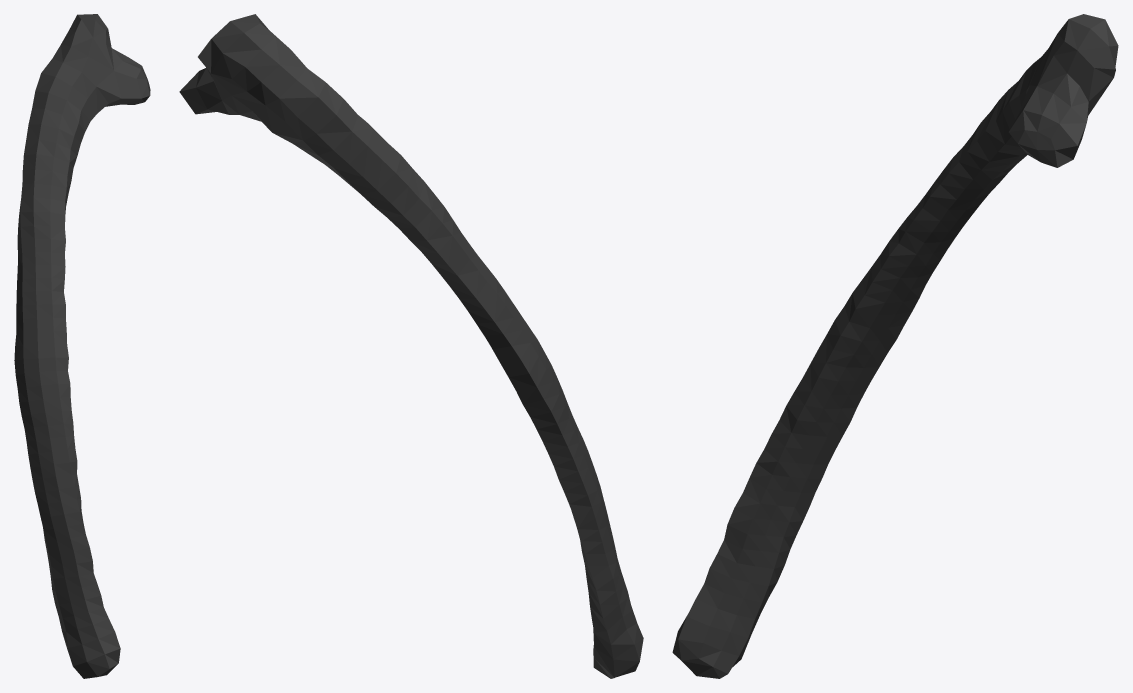
The model's file is Rib_2_R.glb.
3 views of the same model, side by side, from view 1: azimuth 30°, elevation 25°; view 2: azimuth 150°, elevation 25°; view 3: azimuth 270°, elevation 25° (orthographic). The views are drawn at different scales.
Parts seen in each view (by area): view 1: Rib_2_R; view 2: Rib_2_R; view 3: Rib_2_R.
Boxes of the visible parts, x1=… form: Rib_2_R: x1=14, y1=14, x2=150, y2=678; Rib_2_R: x1=179, y1=14, x2=643, y2=678; Rib_2_R: x1=672, y1=14, x2=1118, y2=678.
Bounding box in the file's own units: 2.19 × 5.59 × 3.02.
1 material, 1 textured.
